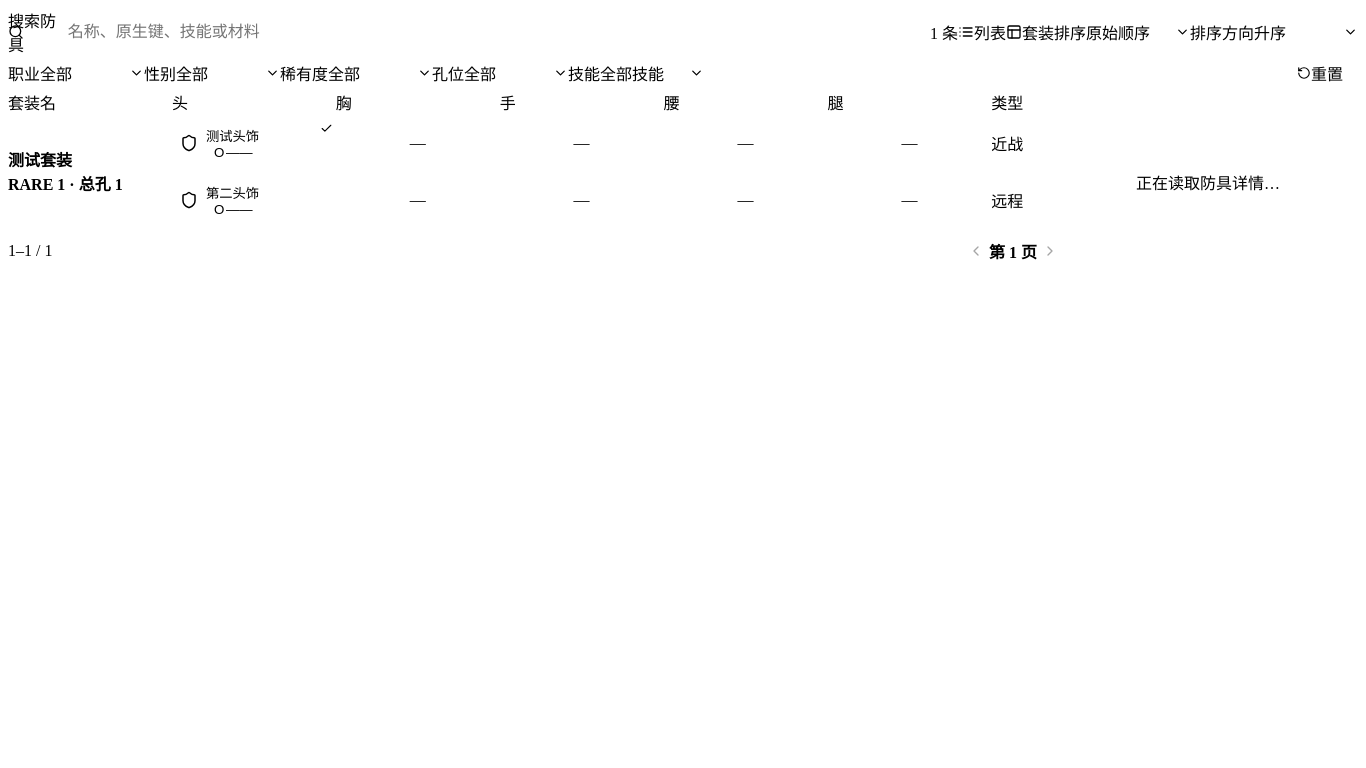
selects native set members using detail requests only and ignores late detail responses
The width and height of the screenshot is (1366, 768).
Click the button "第二头饰 O — —".
click(254, 200)  # box top-left (172, 176), bottom-right (336, 224)
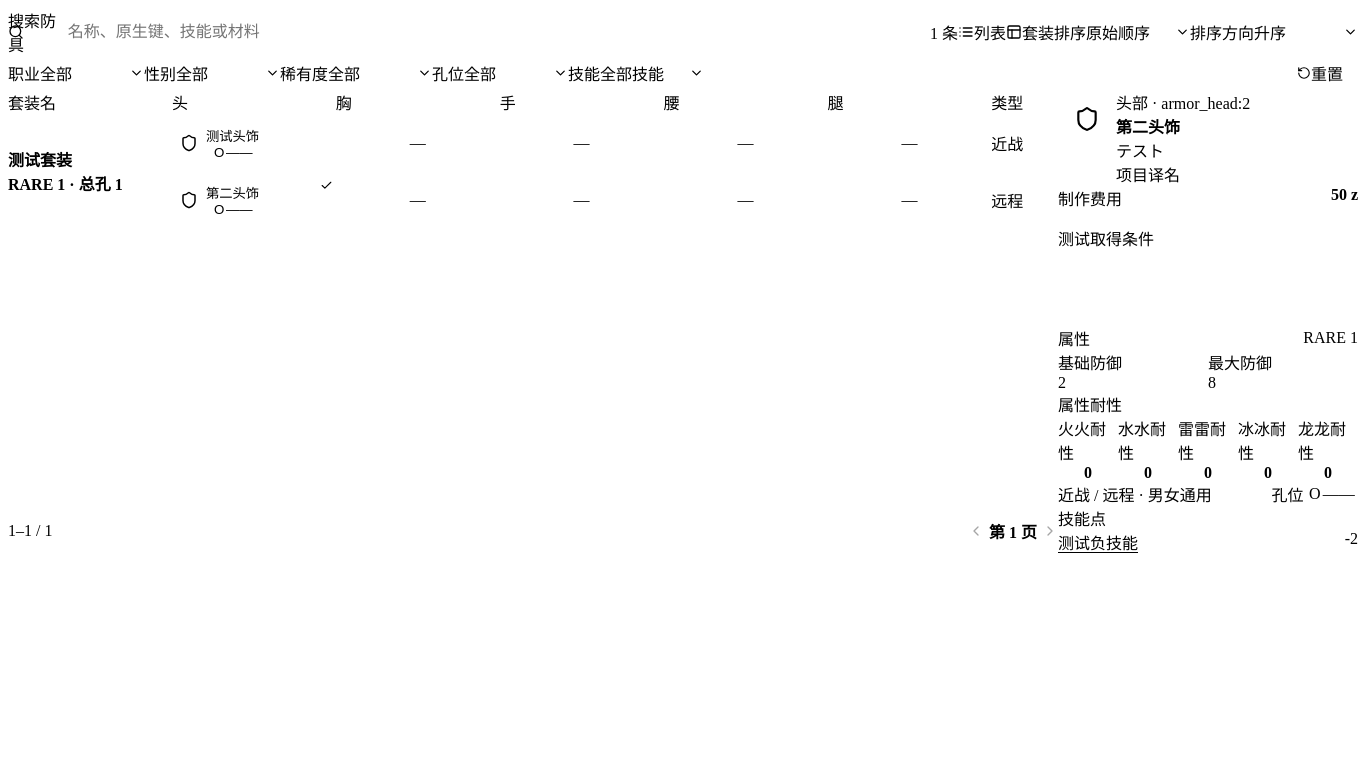
Check: the heading "第二头饰" is shown, box top-left (1116, 119), bottom-right (1180, 136)
